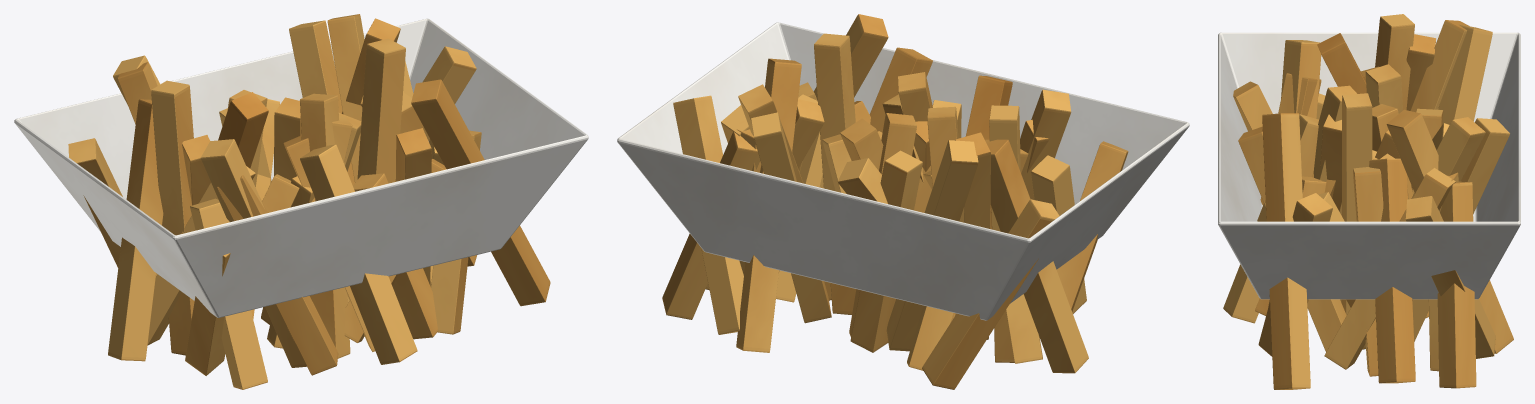
File: fries.glb
3 renders of one model, left to right at view 1: azimuth 30°, elevation 25°; view 2: azimuth 150°, elevation 25°; view 3: azimuth 270°, elevation 25°, orthographic. The views are drawn at different scales.
Parts seen in each view (by area): view 1: fries; view 2: fries; view 3: fries.
Boxes of the visible parts, x1=… form: fries: x1=14, y1=14, x2=588, y2=389; fries: x1=617, y1=14, x2=1189, y2=389; fries: x1=1218, y1=14, x2=1520, y2=389.
Bounding box in the file's own units: 1.16 × 0.7125 × 0.7771.
Materials: 2 (2 with a texture image).
